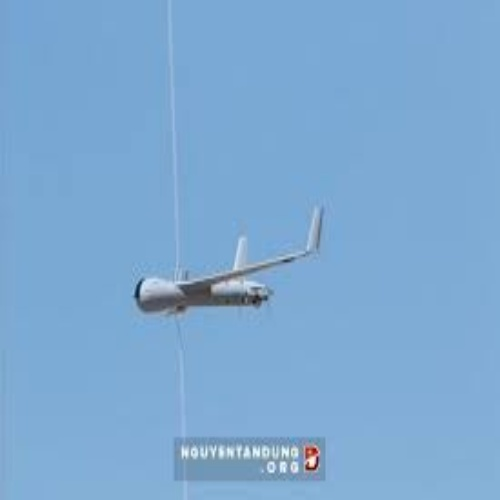uav597: (128, 204, 326, 319)
